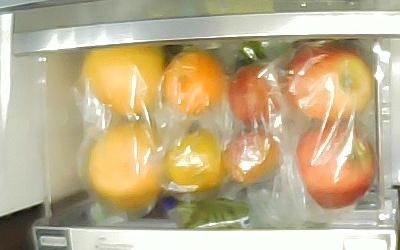apple_vinyl: (293, 124, 375, 209), (287, 45, 371, 122)
grapefruit_vinyl: (90, 124, 164, 211), (83, 43, 164, 118)
persimmon_vinyl: (162, 51, 224, 118), (164, 131, 221, 190)
prune_vinyl: (228, 65, 286, 124), (223, 130, 280, 185)
